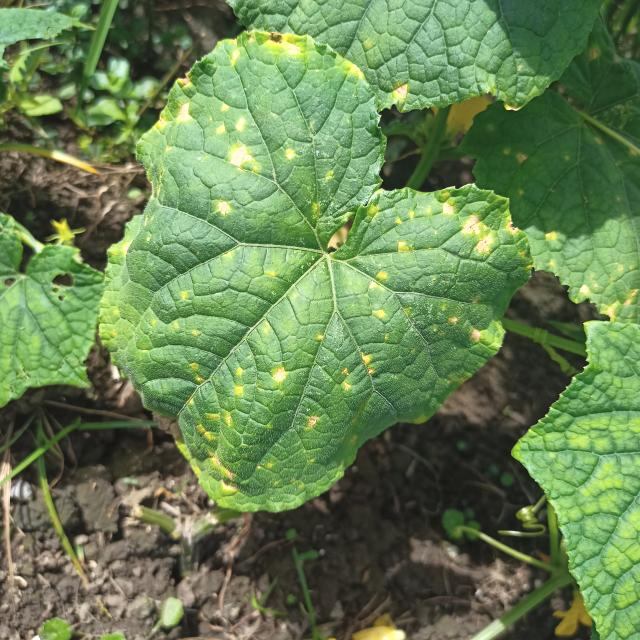disease_cucumber: (116, 34, 522, 500)
